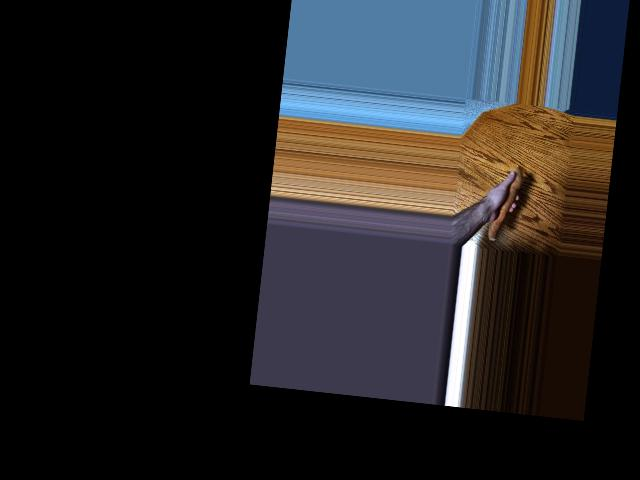sweet_potato: (484, 166, 526, 244)
